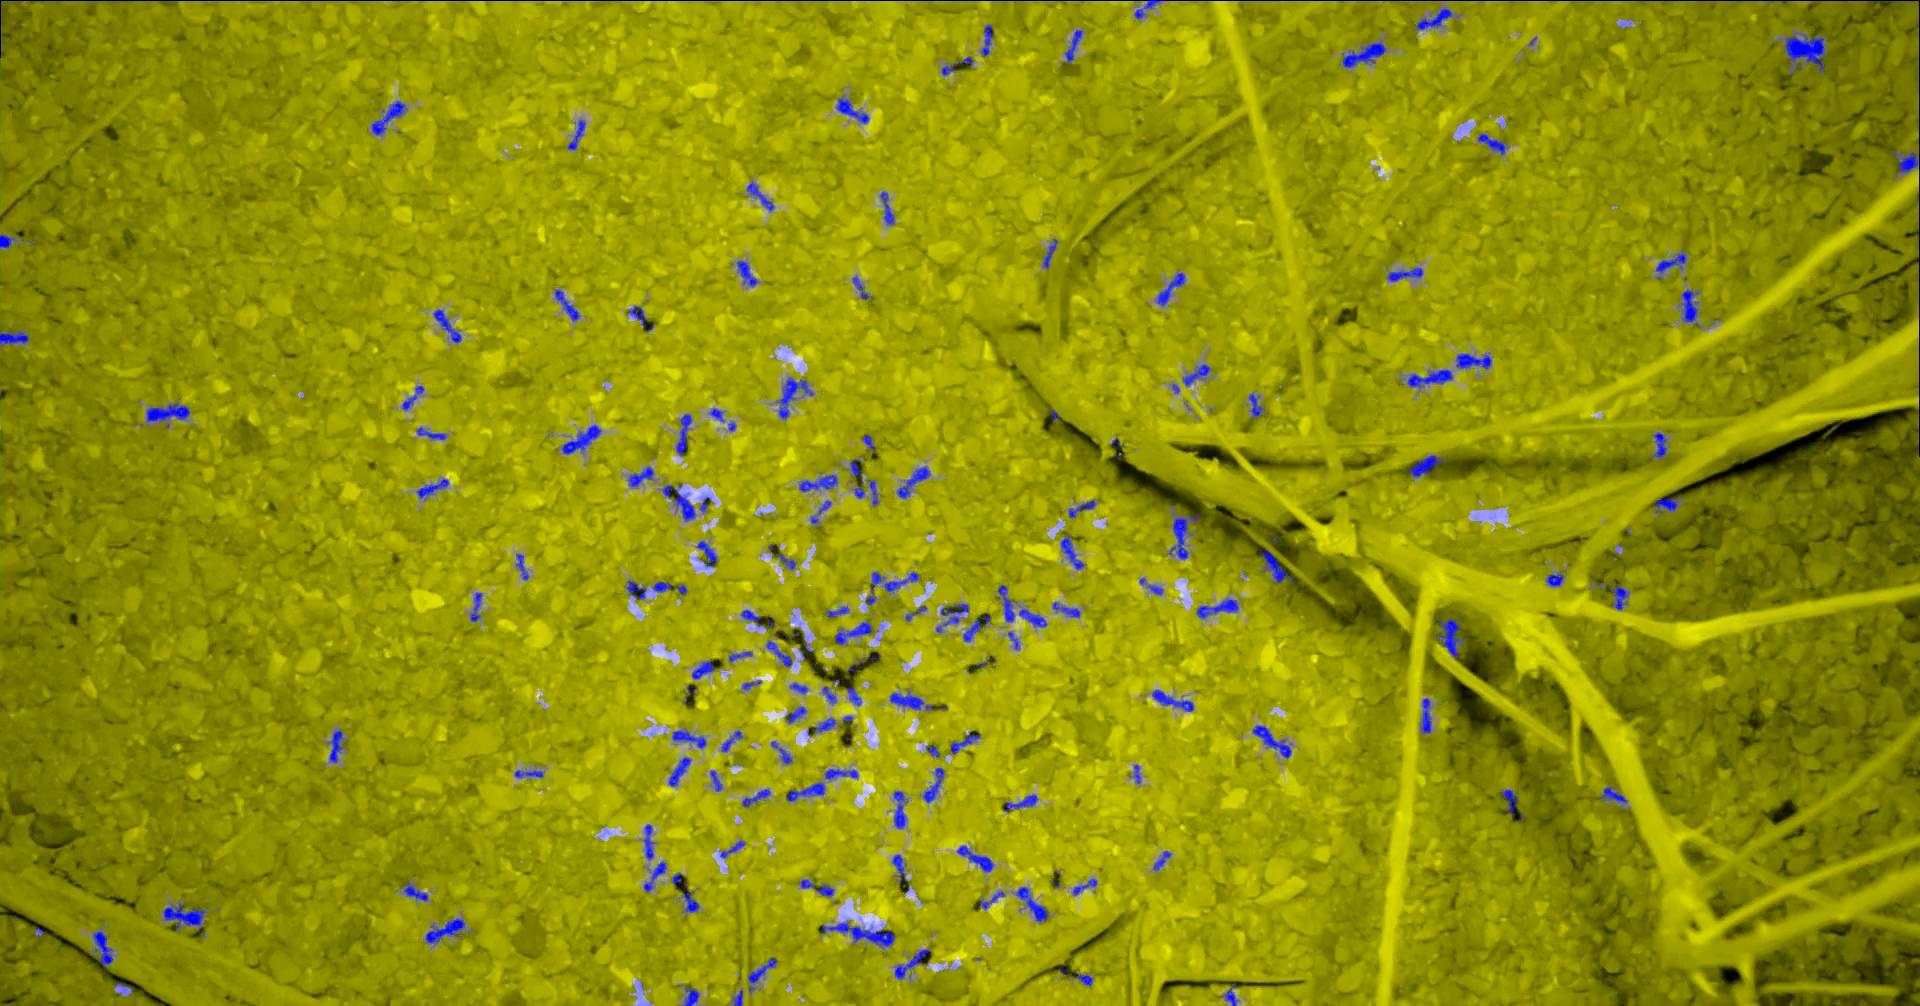ant: (820, 921, 894, 948), (863, 572, 918, 605), (1784, 33, 1823, 75), (777, 377, 813, 418), (1168, 513, 1199, 559), (1252, 725, 1291, 758), (163, 903, 204, 934), (1257, 547, 1294, 582), (371, 100, 406, 135), (662, 484, 695, 521), (1341, 41, 1385, 67), (561, 424, 601, 453), (1015, 887, 1048, 921), (145, 401, 189, 427), (1435, 619, 1463, 658), (894, 949, 930, 979), (747, 956, 776, 992), (897, 466, 930, 497), (1404, 455, 1448, 478), (956, 845, 993, 871), (432, 309, 461, 342), (935, 603, 968, 633), (1156, 271, 1183, 305), (1150, 688, 1192, 711), (425, 918, 463, 942), (836, 97, 869, 123), (1196, 598, 1238, 619), (834, 621, 871, 644), (745, 180, 773, 210), (1415, 8, 1451, 29), (1407, 370, 1451, 387), (1060, 535, 1083, 569), (963, 614, 990, 641), (554, 290, 579, 320), (91, 930, 112, 967), (922, 767, 943, 801), (786, 782, 824, 801), (1500, 789, 1523, 821), (889, 692, 932, 709), (950, 730, 980, 753), (668, 756, 691, 786), (799, 474, 837, 492), (764, 640, 791, 666), (643, 861, 665, 890), (997, 584, 1015, 621), (417, 478, 448, 498), (1182, 363, 1210, 386), (1655, 251, 1685, 272), (676, 413, 691, 453), (1064, 29, 1082, 64), (1477, 133, 1506, 154), (1133, 0, 1166, 18), (1680, 290, 1698, 323), (800, 878, 833, 895), (670, 730, 705, 747), (1003, 794, 1037, 810), (1893, 151, 1919, 173), (401, 385, 423, 410), (1455, 353, 1491, 368), (696, 540, 716, 567), (742, 788, 770, 807), (893, 790, 907, 828), (568, 119, 585, 149), (737, 260, 757, 286), (1385, 267, 1422, 281), (328, 729, 343, 762), (1018, 608, 1046, 626), (808, 716, 836, 734), (770, 741, 791, 763), (629, 466, 653, 486), (979, 890, 1004, 909), (651, 580, 686, 594), (1068, 499, 1095, 517), (717, 840, 744, 857), (810, 500, 830, 523), (879, 191, 893, 224), (1051, 601, 1079, 617), (1597, 786, 1625, 803), (683, 883, 698, 912), (404, 882, 427, 901), (740, 608, 764, 626), (1072, 878, 1096, 895), (891, 854, 907, 882), (721, 730, 742, 751), (691, 661, 712, 680), (1043, 238, 1057, 267), (1611, 586, 1629, 608), (1420, 697, 1431, 733), (980, 24, 993, 55), (627, 305, 646, 325), (415, 427, 446, 439), (852, 276, 869, 298), (1652, 431, 1666, 457), (0, 330, 29, 343), (470, 592, 483, 621), (1248, 392, 1263, 417), (1152, 850, 1170, 870), (785, 706, 806, 723), (1655, 497, 1677, 512), (643, 824, 653, 859), (516, 553, 528, 579), (626, 580, 645, 598), (681, 986, 698, 1005), (824, 768, 857, 779), (777, 553, 795, 569), (846, 686, 861, 705), (709, 770, 721, 791), (825, 606, 848, 617), (514, 768, 543, 777), (850, 459, 861, 480), (822, 686, 836, 702), (869, 479, 877, 504), (1545, 573, 1563, 586), (1224, 987, 1237, 1005), (789, 682, 808, 694), (728, 652, 752, 661), (1865, 0, 1919, 4), (0, 232, 14, 246), (709, 408, 724, 420), (862, 433, 875, 448), (1130, 763, 1140, 782), (1076, 973, 1092, 984), (941, 64, 955, 75), (731, 989, 742, 1005)
